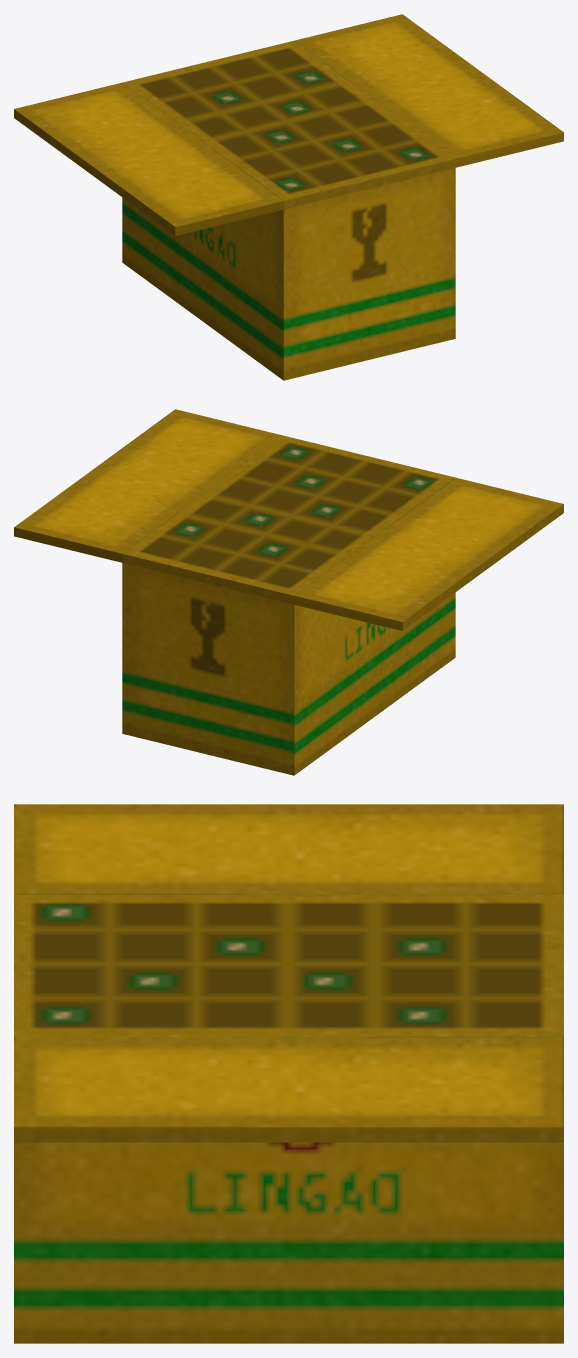
The model's file is LP_BEERBOX.fbx.
3 renders of one model, top to bottom at view 1: azimuth 30°, elevation 25°; view 2: azimuth 150°, elevation 25°; view 3: azimuth 270°, elevation 25°, orthographic. The views are drawn at different scales.
Parts seen in each view (by area): view 1: Cube; view 2: Cube; view 3: Cube.
Boxes of the visible parts, bbox=[...] form: Cube: bbox=[14, 14, 563, 380]; Cube: bbox=[14, 409, 563, 775]; Cube: bbox=[14, 804, 563, 1343].
Size of the model in its own units: 452 by 200 by 325.
